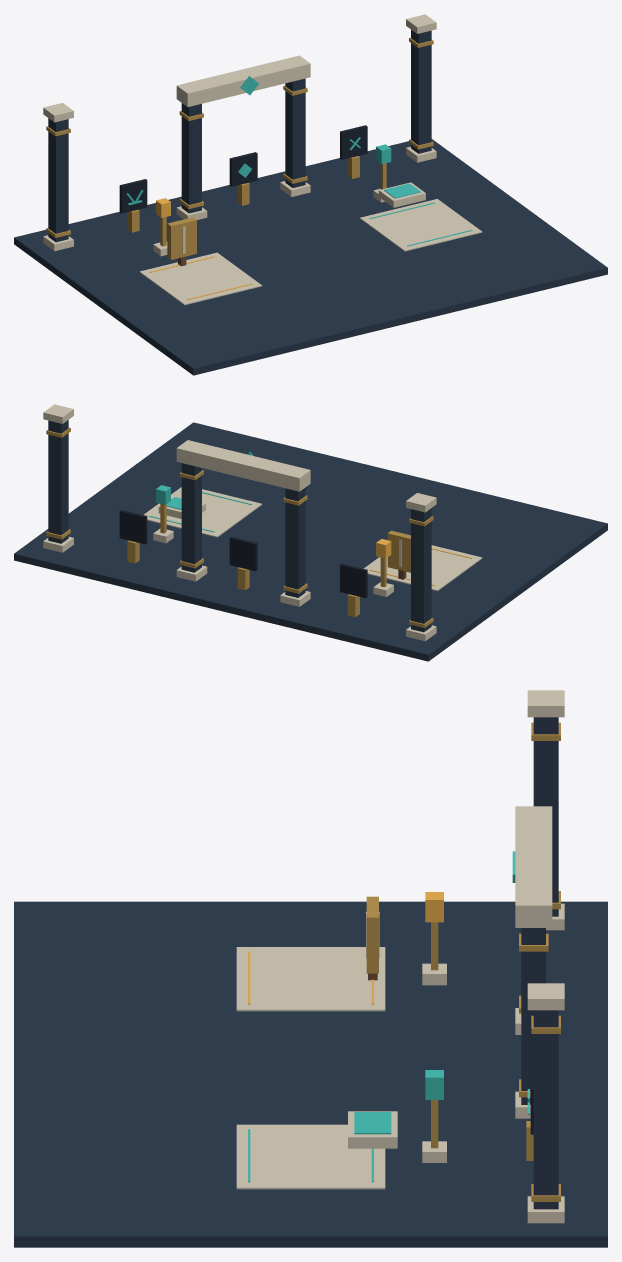
The model's file is guardian_school.glb.
3 renders of one model, top to bottom at view 1: azimuth 30°, elevation 25°; view 2: azimuth 150°, elevation 25°; view 3: azimuth 270°, elevation 25°, orthographic. The views are drawn at different scales.
Visible parts, largest first — view 1: guardian_school; view 2: guardian_school; view 3: guardian_school.
Part boxes in pixels (bbox=[...]): guardian_school: bbox=[14, 14, 607, 375]; guardian_school: bbox=[14, 404, 607, 661]; guardian_school: bbox=[14, 690, 607, 1247].
Bounding box in the file's own units: 64 × 21 × 48.
